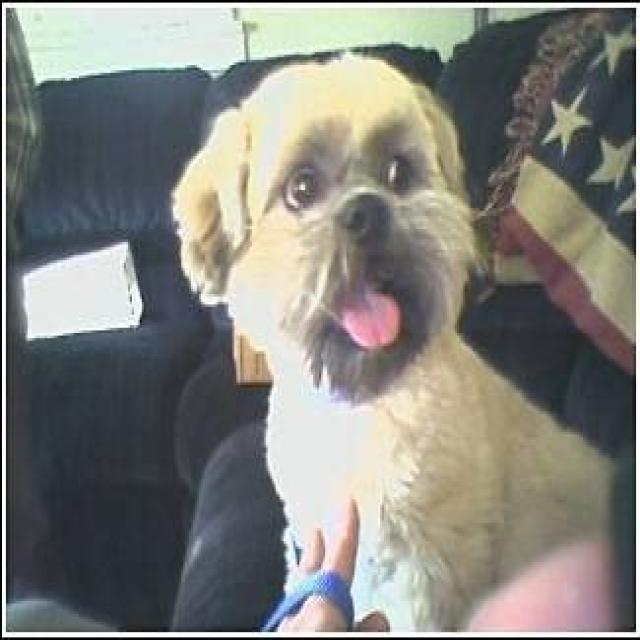dog: (170, 50, 618, 632)
